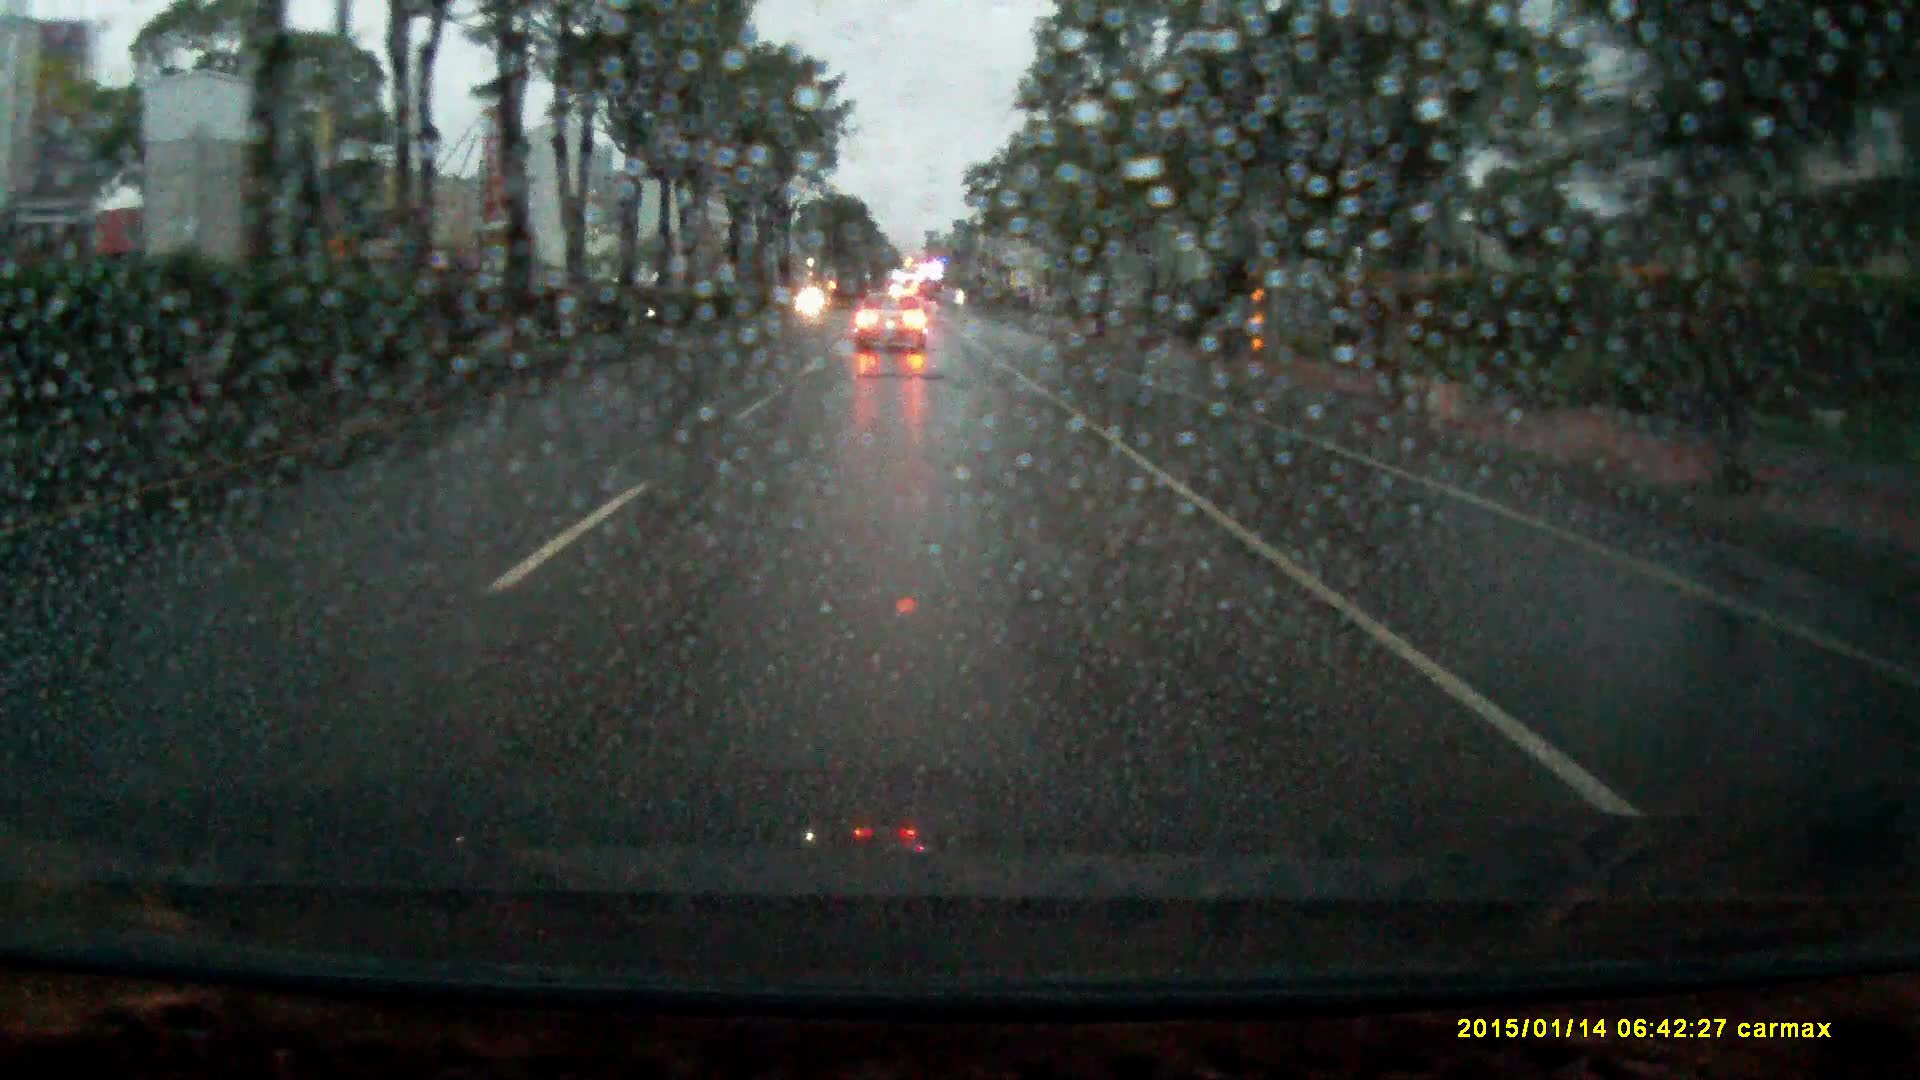vehicle: (853, 294, 932, 359)
